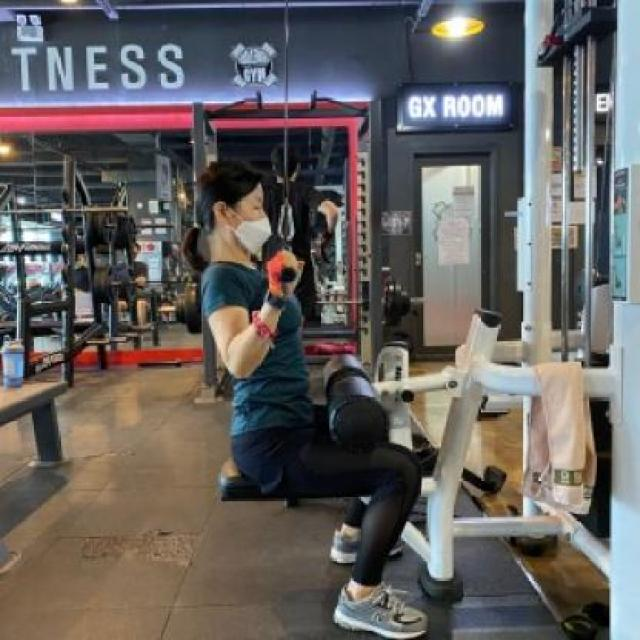Lat Pull Down: (149, 4, 640, 640)
